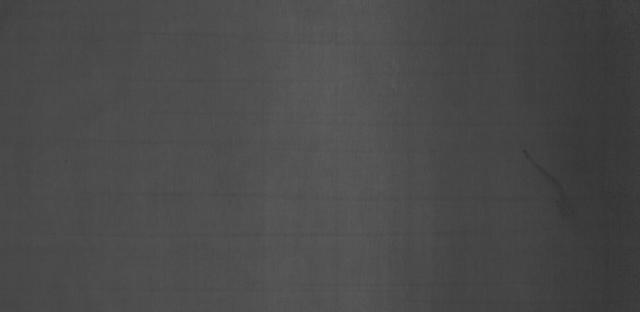water_spot: (507, 140, 593, 230)
